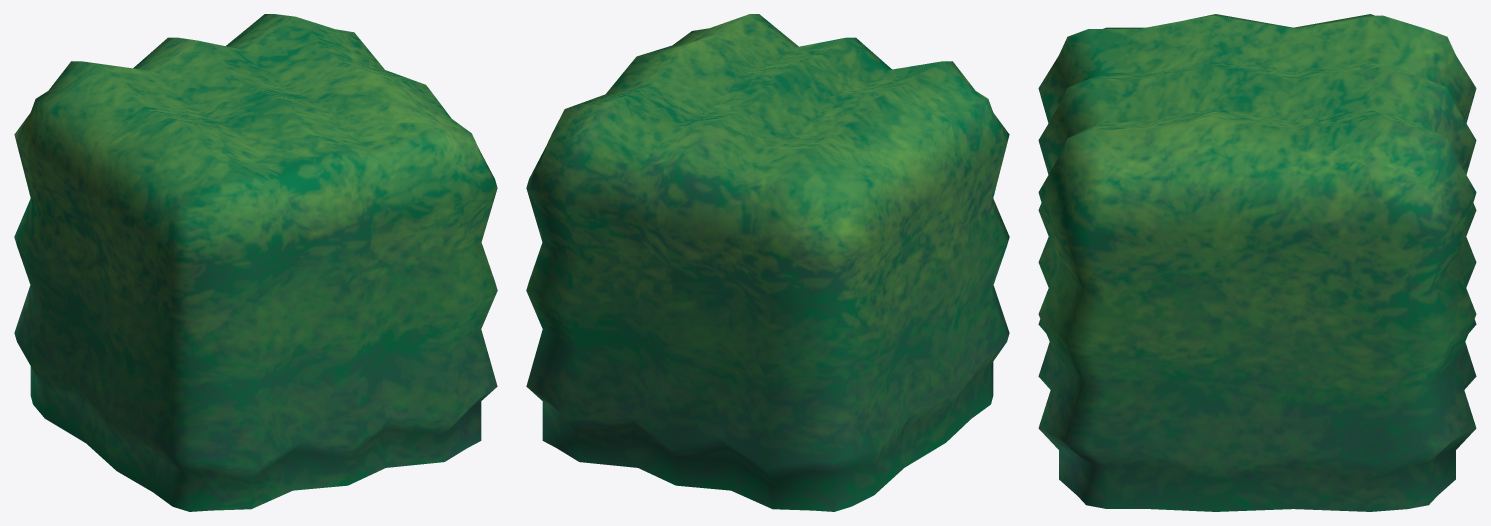
The model's file is NAEGI_01.fbx.
3 renders of one model, left to right at view 1: azimuth 30°, elevation 25°; view 2: azimuth 150°, elevation 25°; view 3: azimuth 270°, elevation 25°, orthographic. The views are drawn at different scales.
Visible parts, largest first — view 1: NAEGI_01; view 2: NAEGI_01; view 3: NAEGI_01.
Boxes of the visible parts, <box> form: NAEGI_01: <box>14,14,497,511</box>; NAEGI_01: <box>526,14,1009,511</box>; NAEGI_01: <box>1038,14,1476,511</box>.
Bounding box in the file's own units: 19.41 × 18.59 × 20.42.
1 material, 1 textured.
